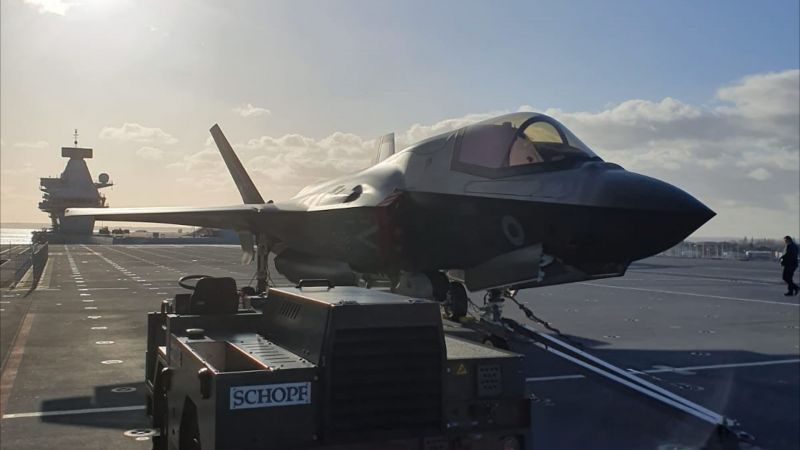F-35 Lightning: (62, 92, 776, 386)
